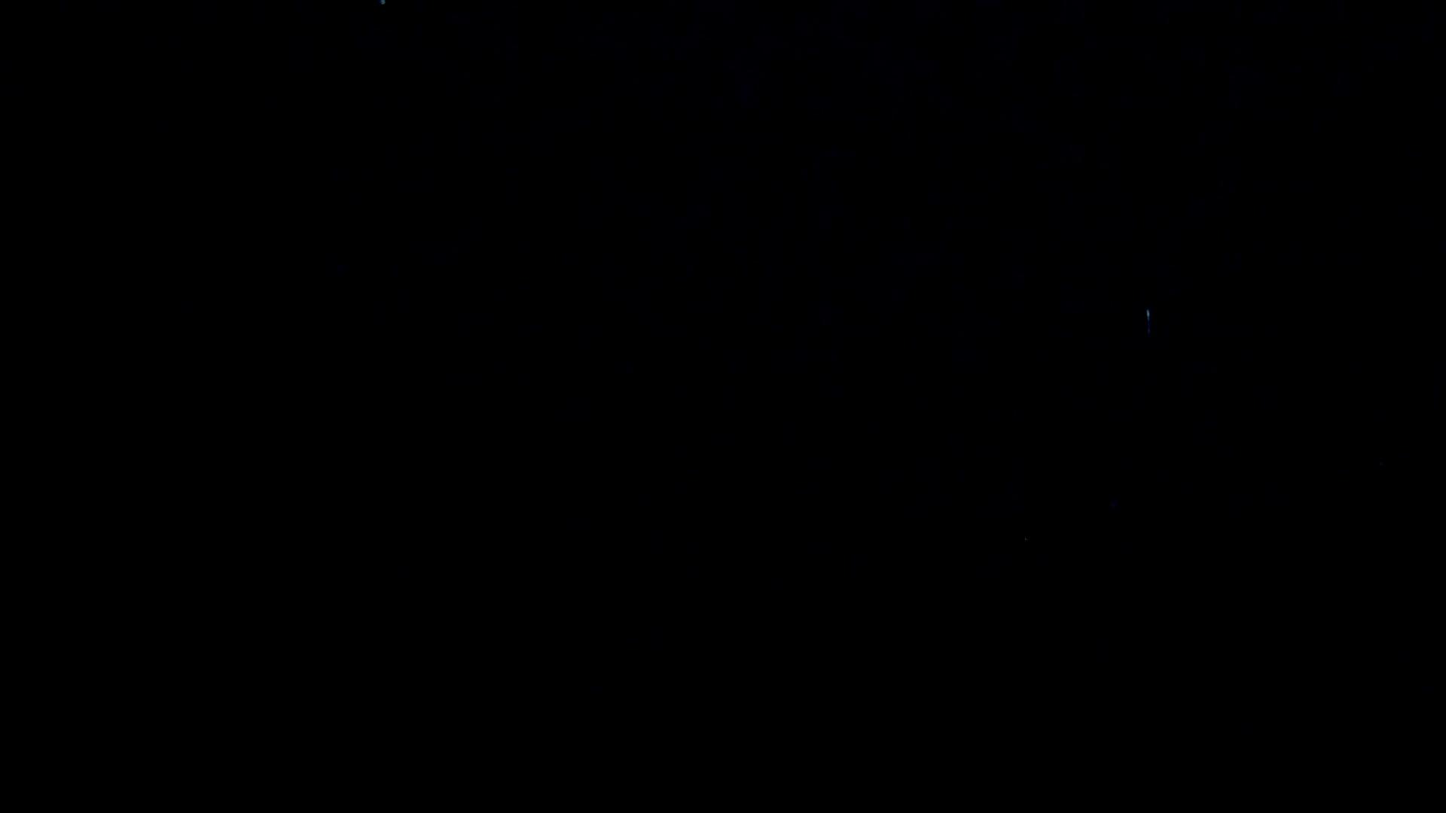organism: (1140, 305, 1155, 338)
